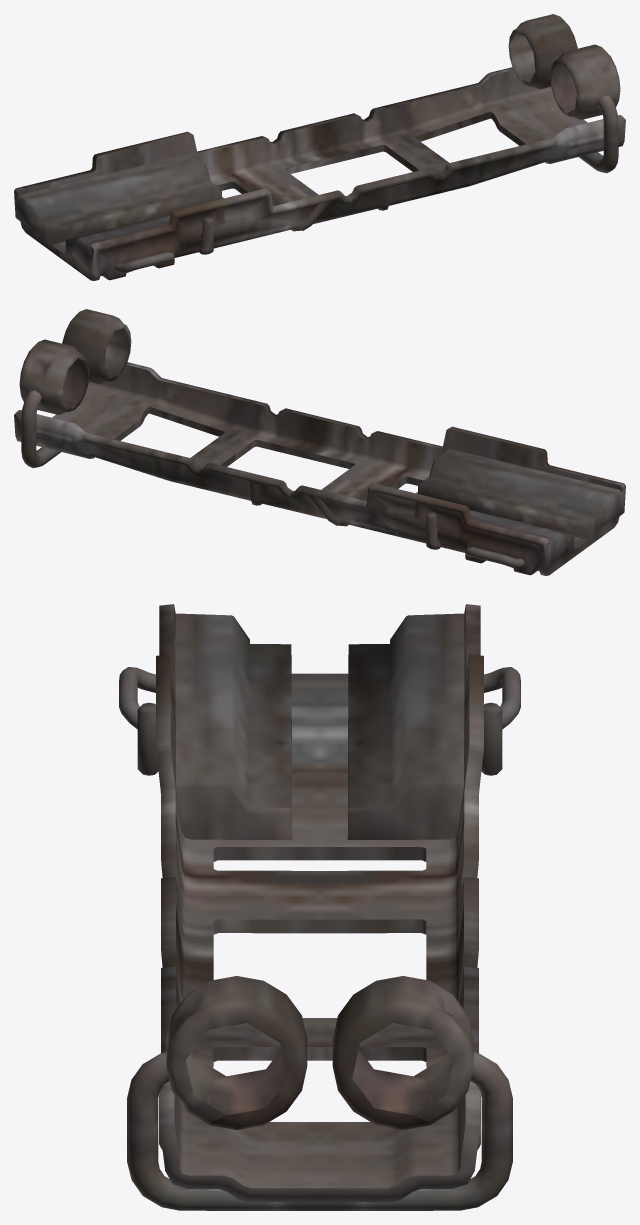
Rendered from HeavyWeapons_Vladof_Barrel_Gruppa_Acc_3.obj.
3 renders of one model, top to bottom at view 1: azimuth 30°, elevation 25°; view 2: azimuth 150°, elevation 25°; view 3: azimuth 270°, elevation 25°, orthographic. The views are drawn at different scales.
Parts seen in each view (by area): view 1: SK_HW_VLA.136, SK_HW_VLA.143, SK_HW_VLA.142, SK_HW_VLA.138, SK_HW_VLA.141, SK_HW_VLA.139; view 2: SK_HW_VLA.136, SK_HW_VLA.142, SK_HW_VLA.143, SK_HW_VLA.138, SK_HW_VLA.140, SK_HW_VLA.137; view 3: SK_HW_VLA.136, SK_HW_VLA.142, SK_HW_VLA.143, SK_HW_VLA.138, SK_HW_VLA.137, SK_HW_VLA.139, SK_HW_VLA.140, SK_HW_VLA.141.
Boxes of the visible parts, left/top/right/bottom form: SK_HW_VLA.136: left=14, top=67, right=625, bottom=280; SK_HW_VLA.143: left=550, top=44, right=620, bottom=119; SK_HW_VLA.142: left=508, top=14, right=577, bottom=89; SK_HW_VLA.138: left=532, top=51, right=618, bottom=173; SK_HW_VLA.141: left=115, top=252, right=174, bottom=273; SK_HW_VLA.139: left=199, top=217, right=213, bottom=254; SK_HW_VLA.136: left=14, top=362, right=625, bottom=575; SK_HW_VLA.142: left=19, top=339, right=89, bottom=414; SK_HW_VLA.143: left=62, top=309, right=131, bottom=384; SK_HW_VLA.138: left=21, top=346, right=107, bottom=468; SK_HW_VLA.140: left=465, top=547, right=524, bottom=568; SK_HW_VLA.137: left=426, top=512, right=440, bottom=549; SK_HW_VLA.136: left=156, top=604, right=483, bottom=1201; SK_HW_VLA.142: left=332, top=976, right=473, bottom=1129; SK_HW_VLA.143: left=166, top=976, right=307, bottom=1129; SK_HW_VLA.138: left=127, top=1052, right=512, bottom=1210; SK_HW_VLA.137: left=481, top=702, right=502, bottom=775; SK_HW_VLA.139: left=137, top=702, right=158, bottom=775; SK_HW_VLA.140: left=484, top=667, right=520, bottom=729; SK_HW_VLA.141: left=119, top=667, right=155, bottom=729.
Size of the model in its own units: 59.22 by 11.79 by 19.38.
